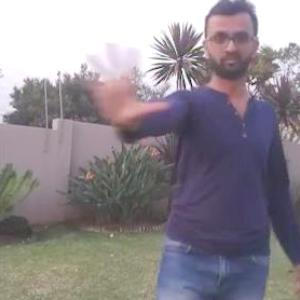follow_hand: (76, 38, 170, 126)
